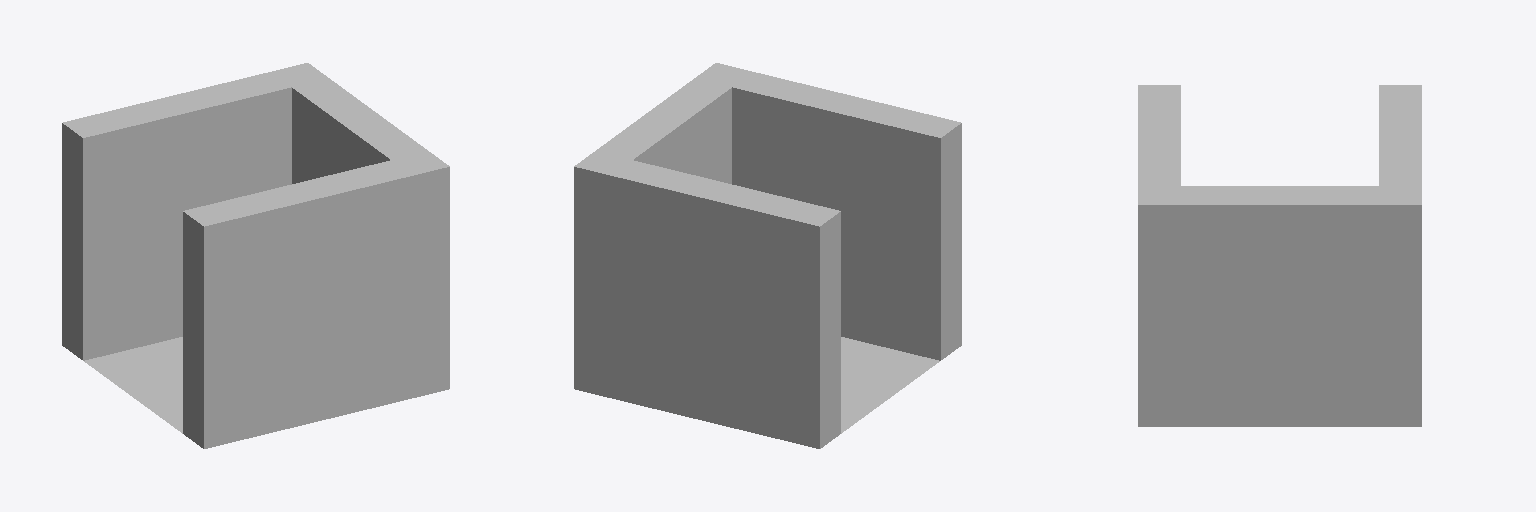
File: Tiles_0X.obj
The picture shows the model from 3 angles: view 1: azimuth 30°, elevation 25°; view 2: azimuth 150°, elevation 25°; view 3: azimuth 270°, elevation 25°; orthographic projection.
Visible parts, largest first — view 1: Corridoio, Trivia, L, Start; view 2: Trivia, Corridoio, L, Start; view 3: L, Trivia, Corridoio.
Boxes of the visible parts, box(x1,y1,x2,y2) form: Corridoio: box(185, 152, 449, 448); Trivia: box(62, 63, 449, 448); L: box(63, 63, 446, 360); Start: box(64, 114, 119, 359); Trivia: box(574, 63, 961, 448); Corridoio: box(696, 63, 960, 359); L: box(574, 63, 837, 447); Start: box(783, 207, 837, 447); L: box(1138, 85, 1421, 426); Trivia: box(1138, 85, 1421, 426); Corridoio: box(1138, 85, 1180, 204).
Bounding box in the file's own units: 1 × 0.8647 × 1.